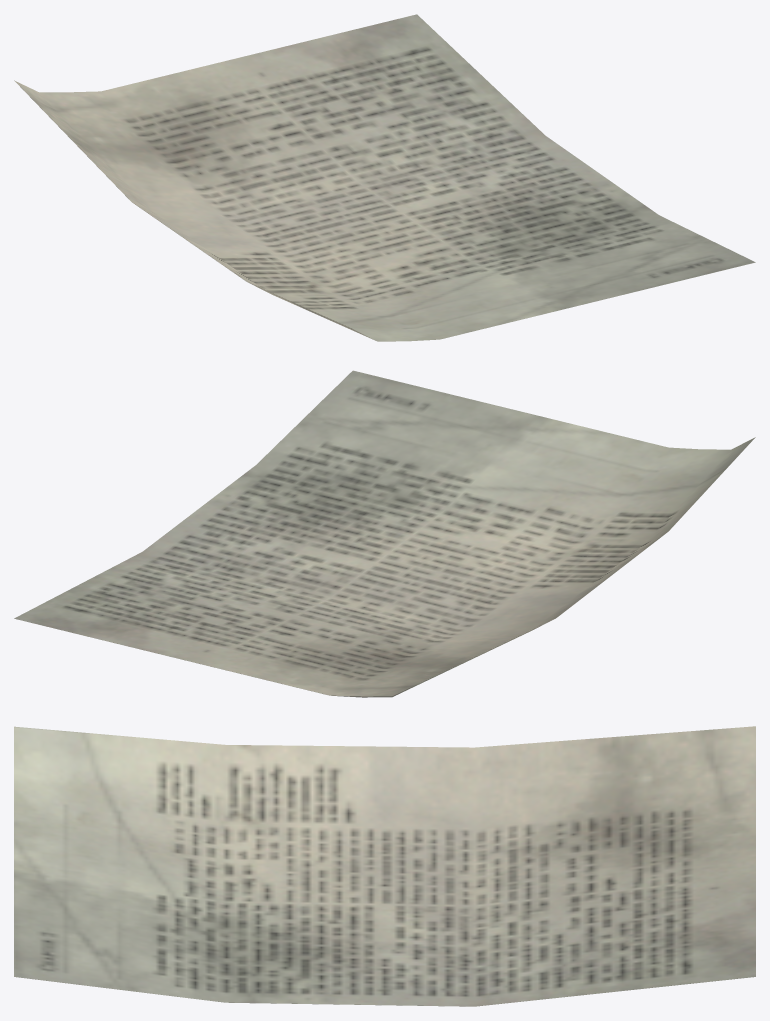
The model's file is Paper_R.obj.
3 renders of one model, top to bottom at view 1: azimuth 30°, elevation 25°; view 2: azimuth 150°, elevation 25°; view 3: azimuth 270°, elevation 25°, orthographic. The views are drawn at different scales.
Visible parts, largest first — view 1: Paper_R; view 2: Paper_R; view 3: Paper_R.
Boxes of the visible parts, box(x1,y1,x2,y2) form: Paper_R: box(14, 14, 755, 341); Paper_R: box(14, 370, 755, 697); Paper_R: box(14, 726, 755, 1006).
Size of the model in its own units: 12.45 by 1.71 by 17.66.
